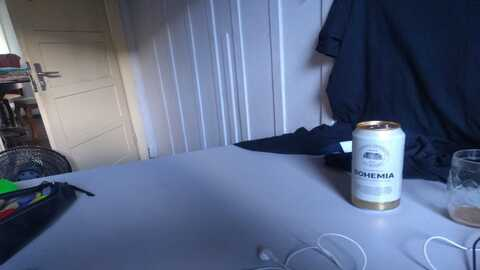bohemia: (349, 114, 408, 220)
